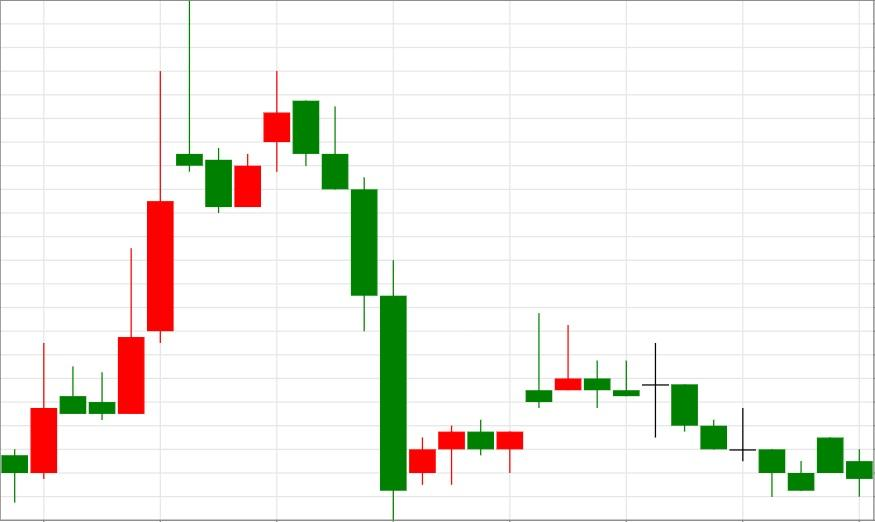three_black_crows_fall: (204, 70, 379, 331)
